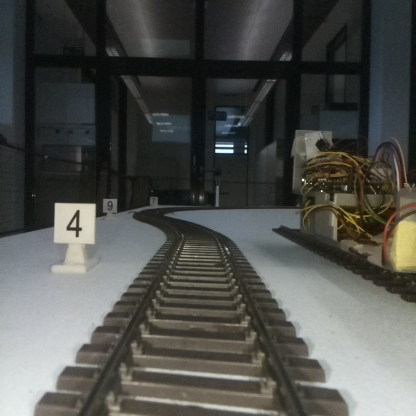white-stop-4: (54, 204, 94, 271)
white-stop-7: (150, 195, 158, 206)
white-stop-9: (103, 199, 117, 220)
